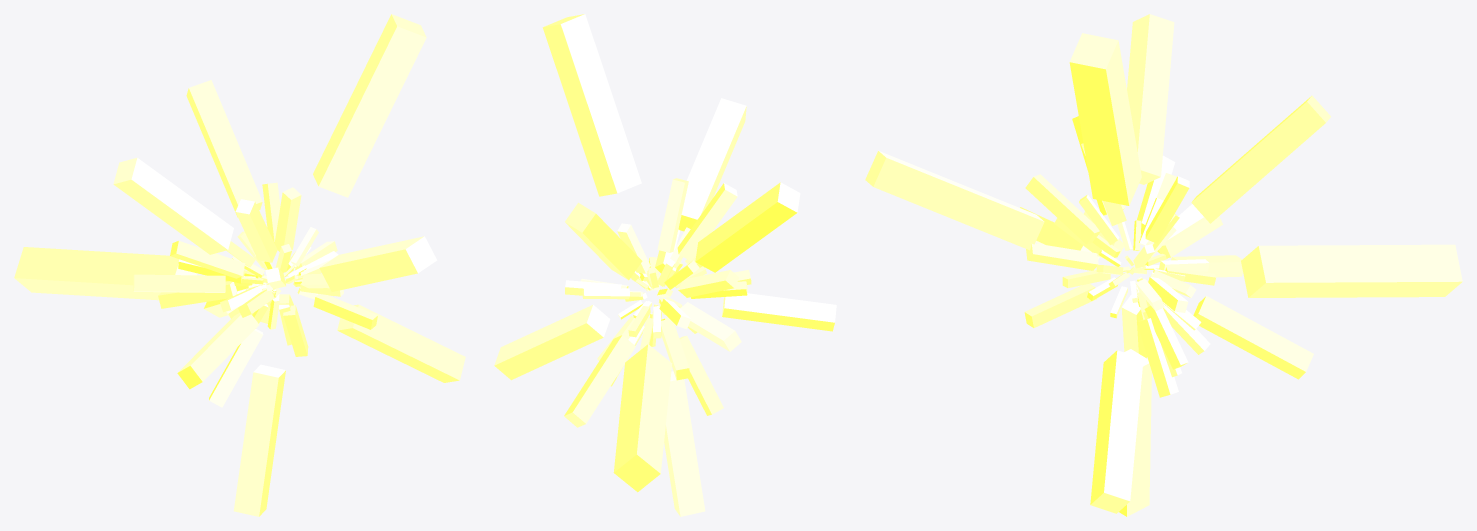
File: explosion.fbx
3 views of the same model, side by side, from view 1: azimuth 30°, elevation 25°; view 2: azimuth 150°, elevation 25°; view 3: azimuth 270°, elevation 25° (orthographic). The views are drawn at different scales.
Visible parts, largest first — view 1: Cube.040; view 2: Cube.040; view 3: Cube.040.
Boxes of the visible parts, x1,y1,x2,y2 form: Cube.040: (14, 14, 465, 516); Cube.040: (494, 14, 836, 516); Cube.040: (865, 14, 1462, 516).
Size of the model in its own units: 22151 by 30177 by 29860.
